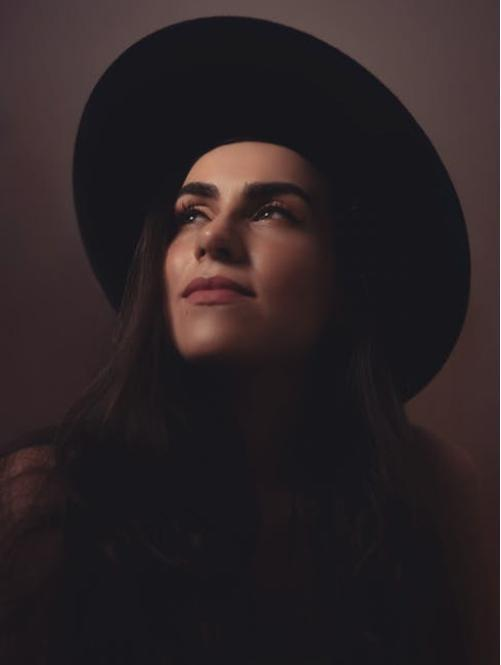face: (163, 144, 337, 364)
